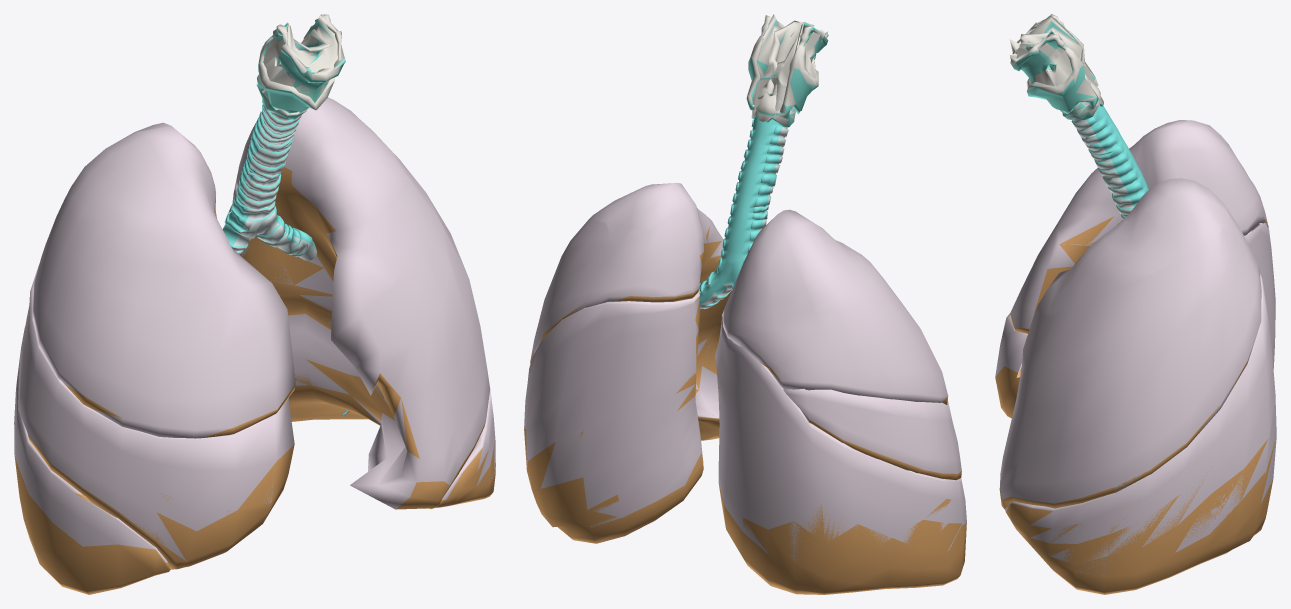
File: WhiteLungs.glb
3 views of the same model, side by side, from view 1: azimuth 30°, elevation 25°; view 2: azimuth 150°, elevation 25°; view 3: azimuth 270°, elevation 25° (orthographic). The views are drawn at different scales.
Visible parts, largest first — view 1: Respiratoy_Lung_Geo_Right_Male_Anatomy_Pack_Complete_V05:Mal, Respiratoy_Lung_Geo_Left_Male_Anatomy_Pack_Complete_V05:Male, Respiratoy_Lung_Geo_Right_Male_Anatomy_Pack_Complete_V05:Ma, Respiratoy_Lung_Geo_Left_Male_Anatomy_Pack_Complete_V05:Mal, Respiratoy_Trachea_Geo_Male_Anatomy_Pack_Complete_V05:Male_, Respiratoy_Trachea_Geo_Male_Anatomy_Pack_Complete_V05:Male_R, Respiratoy_Thyroid_Cartliage_Geo_Male_Anatomy_Pack_Complete_, Respiratoy_Epiglotis_Geo_Male_Anatomy_Pack_Complete_V05:Male, Respiratoy_Thyroid_Cartliage_Geo_Male_Anatomy_Pack_Complete, Respiratoy_Thyroid_Membrane_Geo_Male_Anatomy_Pack_Complete_V, Respiratoy_Thyroid_Membrane_Geo_Male_Anatomy_Pack_Complete_; view 2: Respiratoy_Lung_Geo_Right_Male_Anatomy_Pack_Complete_V05:Mal, Respiratoy_Lung_Geo_Left_Male_Anatomy_Pack_Complete_V05:Male, Respiratoy_Lung_Geo_Right_Male_Anatomy_Pack_Complete_V05:Ma, Respiratoy_Lung_Geo_Left_Male_Anatomy_Pack_Complete_V05:Mal, Respiratoy_Trachea_Geo_Male_Anatomy_Pack_Complete_V05:Male_R, Respiratoy_Epiglotis_Geo_Male_Anatomy_Pack_Complete_V05:Male, Respiratoy_Thyroid_Cartliage_Geo_Male_Anatomy_Pack_Complete_, Respiratoy_Thyroid_Cartliage_Geo_Male_Anatomy_Pack_Complete, Respiratoy_Trachea_Geo_Male_Anatomy_Pack_Complete_V05:Male_; view 3: Respiratoy_Lung_Geo_Left_Male_Anatomy_Pack_Complete_V05:Male, Respiratoy_Lung_Geo_Left_Male_Anatomy_Pack_Complete_V05:Mal, Respiratoy_Lung_Geo_Right_Male_Anatomy_Pack_Complete_V05:Mal, Respiratoy_Trachea_Geo_Male_Anatomy_Pack_Complete_V05:Male_R, Respiratoy_Lung_Geo_Right_Male_Anatomy_Pack_Complete_V05:Ma, Respiratoy_Thyroid_Cartliage_Geo_Male_Anatomy_Pack_Complete_, Respiratoy_Thyroid_Cartliage_Geo_Male_Anatomy_Pack_Complete, Respiratoy_Trachea_Geo_Male_Anatomy_Pack_Complete_V05:Male_, Respiratoy_Epiglotis_Geo_Male_Anatomy_Pack_Complete_V05:Male, Respiratoy_Thyroid_Membrane_Geo_Male_Anatomy_Pack_Complete_V, Respiratoy_Thyroid_Membrane_Geo_Male_Anatomy_Pack_Complete_.
Boxes of the visible parts, x1,y1,x2,y2 form: Respiratoy_Lung_Geo_Right_Male_Anatomy_Pack_Complete_V05:Mal: [14, 122, 295, 562]; Respiratoy_Lung_Geo_Left_Male_Anatomy_Pack_Complete_V05:Male: [232, 97, 495, 509]; Respiratoy_Lung_Geo_Right_Male_Anatomy_Pack_Complete_V05:Ma: [14, 196, 295, 594]; Respiratoy_Lung_Geo_Left_Male_Anatomy_Pack_Complete_V05:Mal: [240, 167, 495, 509]; Respiratoy_Trachea_Geo_Male_Anatomy_Pack_Complete_V05:Male_: [228, 106, 316, 260]; Respiratoy_Trachea_Geo_Male_Anatomy_Pack_Complete_V05:Male_R: [222, 104, 316, 255]; Respiratoy_Thyroid_Cartliage_Geo_Male_Anatomy_Pack_Complete_: [257, 14, 344, 117]; Respiratoy_Epiglotis_Geo_Male_Anatomy_Pack_Complete_V05:Male: [287, 14, 337, 72]; Respiratoy_Thyroid_Cartliage_Geo_Male_Anatomy_Pack_Complete: [256, 20, 345, 119]; Respiratoy_Thyroid_Membrane_Geo_Male_Anatomy_Pack_Complete_V: [263, 37, 329, 98]; Respiratoy_Thyroid_Membrane_Geo_Male_Anatomy_Pack_Complete_: [274, 32, 327, 102]; Respiratoy_Lung_Geo_Right_Male_Anatomy_Pack_Complete_V05:Mal: [715, 209, 966, 561]; Respiratoy_Lung_Geo_Left_Male_Anatomy_Pack_Complete_V05:Male: [524, 183, 723, 526]; Respiratoy_Lung_Geo_Right_Male_Anatomy_Pack_Complete_V05:Ma: [715, 360, 966, 594]; Respiratoy_Lung_Geo_Left_Male_Anatomy_Pack_Complete_V05:Mal: [524, 226, 731, 543]; Respiratoy_Trachea_Geo_Male_Anatomy_Pack_Complete_V05:Male_R: [699, 116, 787, 310]; Respiratoy_Epiglotis_Geo_Male_Anatomy_Pack_Complete_V05:Male: [752, 14, 814, 118]; Respiratoy_Thyroid_Cartliage_Geo_Male_Anatomy_Pack_Complete_: [747, 15, 828, 125]; Respiratoy_Thyroid_Cartliage_Geo_Male_Anatomy_Pack_Complete: [746, 22, 828, 127]; Respiratoy_Trachea_Geo_Male_Anatomy_Pack_Complete_V05:Male_: [699, 126, 788, 309]; Respiratoy_Lung_Geo_Left_Male_Anatomy_Pack_Complete_V05:Male: [999, 178, 1276, 576]; Respiratoy_Lung_Geo_Left_Male_Anatomy_Pack_Complete_V05:Mal: [999, 353, 1276, 594]; Respiratoy_Lung_Geo_Right_Male_Anatomy_Pack_Complete_V05:Mal: [995, 120, 1275, 376]; Respiratoy_Trachea_Geo_Male_Anatomy_Pack_Complete_V05:Male_R: [1071, 106, 1148, 217]; Respiratoy_Lung_Geo_Right_Male_Anatomy_Pack_Complete_V05:Ma: [995, 216, 1267, 418]; Respiratoy_Thyroid_Cartliage_Geo_Male_Anatomy_Pack_Complete_: [1009, 14, 1103, 118]; Respiratoy_Thyroid_Cartliage_Geo_Male_Anatomy_Pack_Complete: [1011, 18, 1103, 120]; Respiratoy_Trachea_Geo_Male_Anatomy_Pack_Complete_V05:Male_: [1072, 119, 1133, 219]; Respiratoy_Epiglotis_Geo_Male_Anatomy_Pack_Complete_V05:Male: [1015, 15, 1099, 105]; Respiratoy_Thyroid_Membrane_Geo_Male_Anatomy_Pack_Complete_V: [1029, 43, 1072, 86]; Respiratoy_Thyroid_Membrane_Geo_Male_Anatomy_Pack_Complete_: [1020, 41, 1058, 83].
Size of the model in its own units: 0.2891 by 0.3325 by 0.1766.
